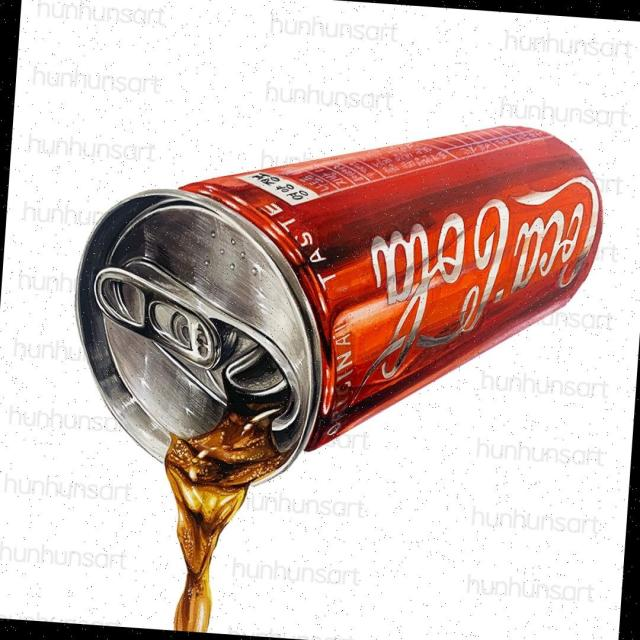coca-cola: (60, 90, 610, 510)
